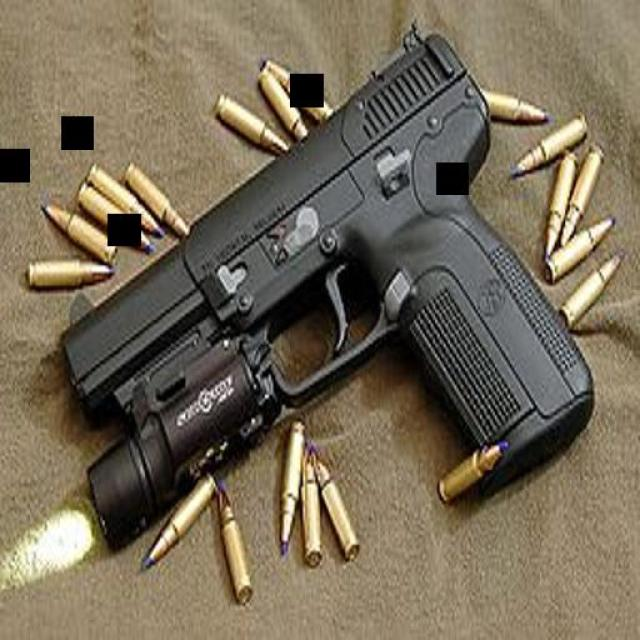gun: (42, 15, 588, 489)
